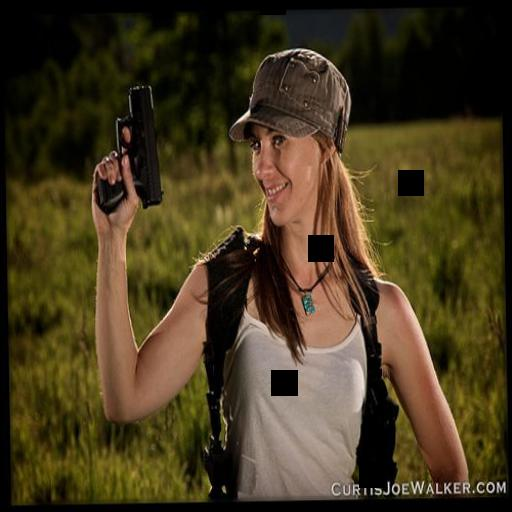Handgun: (94, 82, 160, 210)
